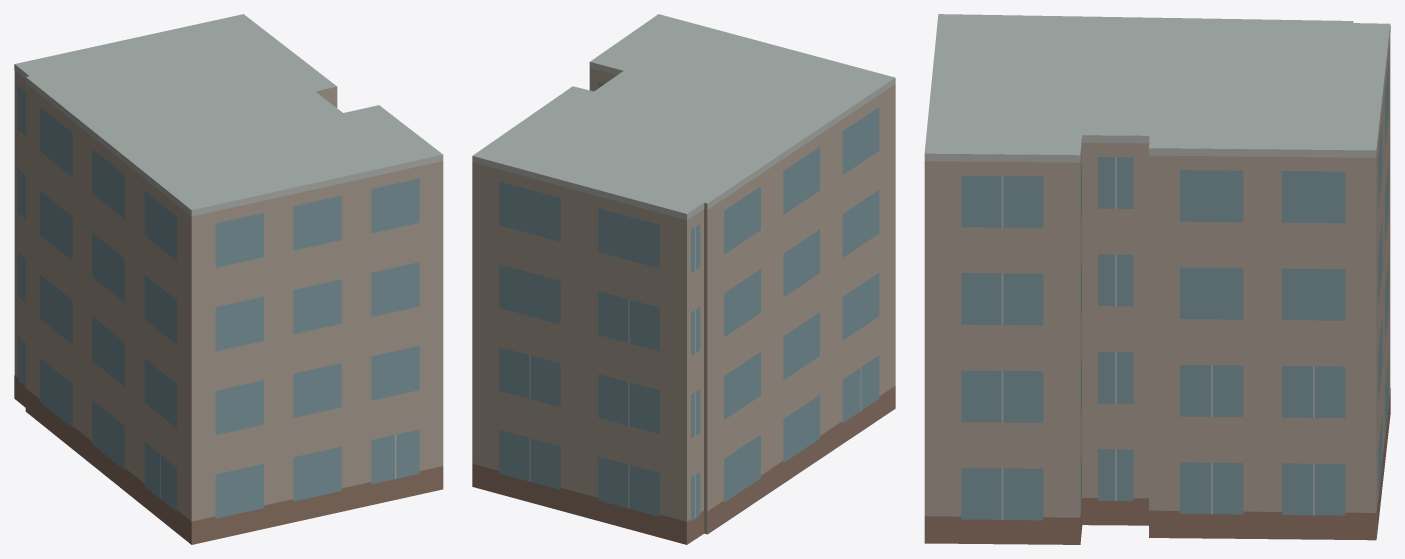
File: survey-upis-32653426.glb
3 views of the same model, side by side, from view 1: azimuth 30°, elevation 25°; view 2: azimuth 150°, elevation 25°; view 3: azimuth 270°, elevation 25° (orthographic). The views are drawn at different scales.
Parts seen in each view (by area): view 1: survey-upis-32653426.tmp; view 2: survey-upis-32653426.tmp; view 3: survey-upis-32653426.tmp.
Boxes of the visible parts, left/top/right/bottom form: survey-upis-32653426.tmp: left=14, top=14, right=443, bottom=544; survey-upis-32653426.tmp: left=472, top=14, right=895, bottom=544; survey-upis-32653426.tmp: left=924, top=14, right=1390, bottom=544.
Size of the model in its own units: 9.99 by 12.85 by 13.94.
